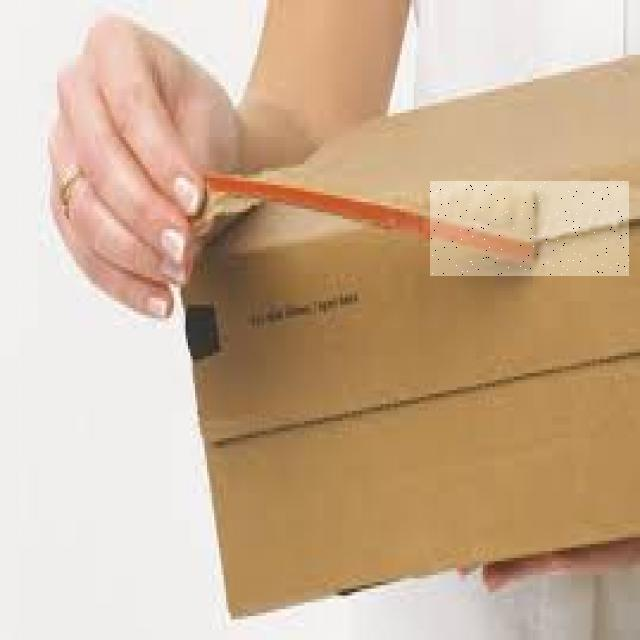tear: (431, 182, 629, 275)
